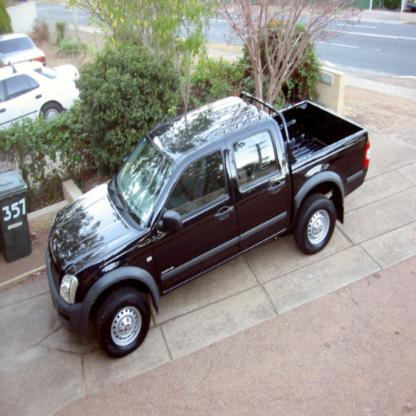Car: (0, 62, 86, 133), (0, 33, 47, 86)
Truck: (46, 90, 370, 358)
